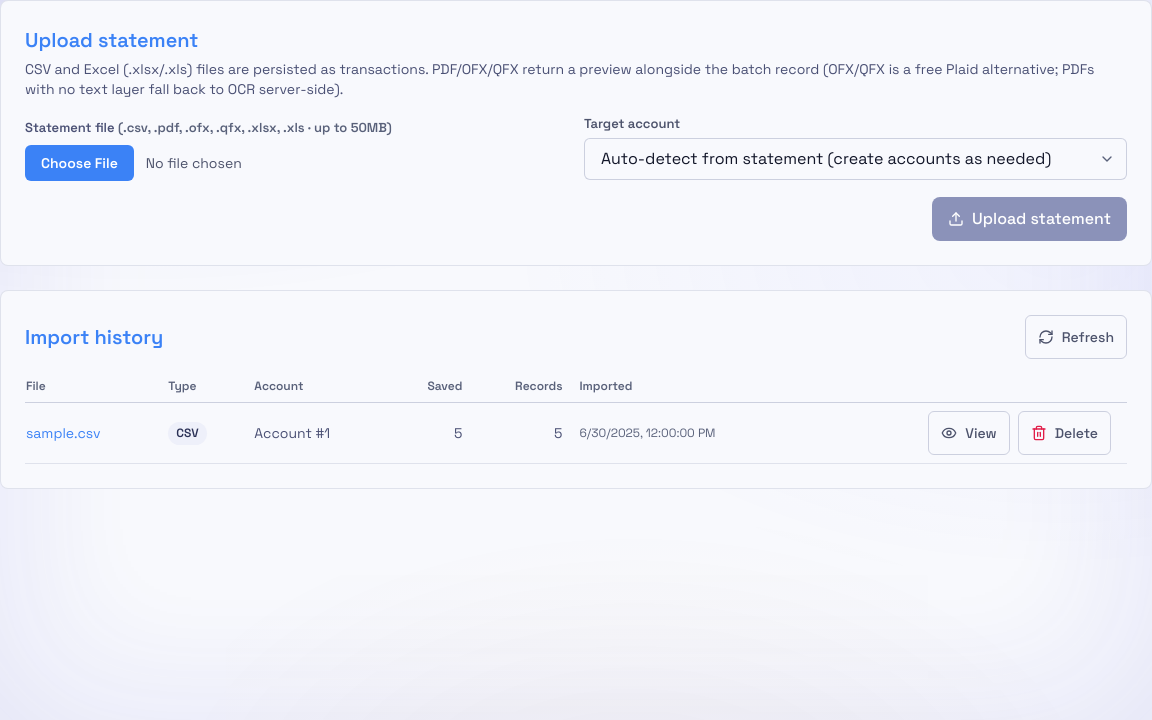
Test: ImportStatementUpload 2-step confirm pattern › respects the 5-transaction blast-radius copy
The image size is (1152, 720).
Check: the row with test id "import-history-row-99" is shown, box 25,403 -> 1127,464
Click the button with test id "import-history-delete-99". click: (1064,433)
box: 1018,411 -> 1111,455
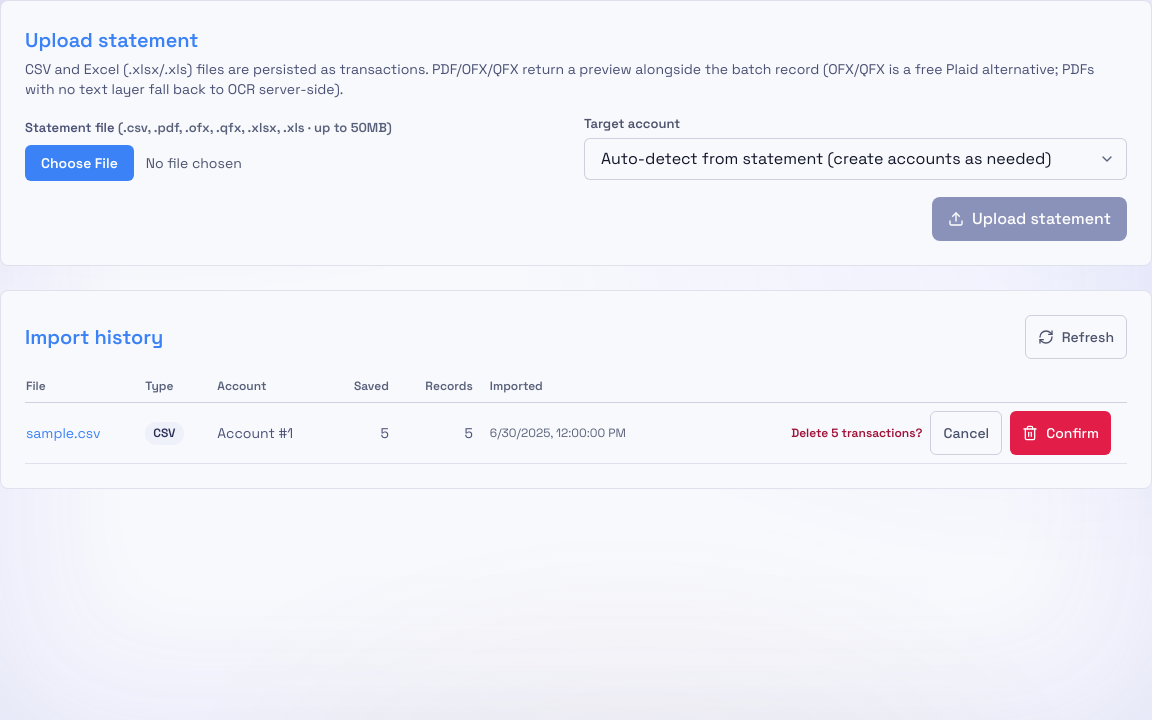
Check: the element with test id "import-history-confirm-99" is shown, box 791,411 -> 1111,455
Check: the text "Delete 5 transactions?" is shown, box 791,426 -> 922,441
